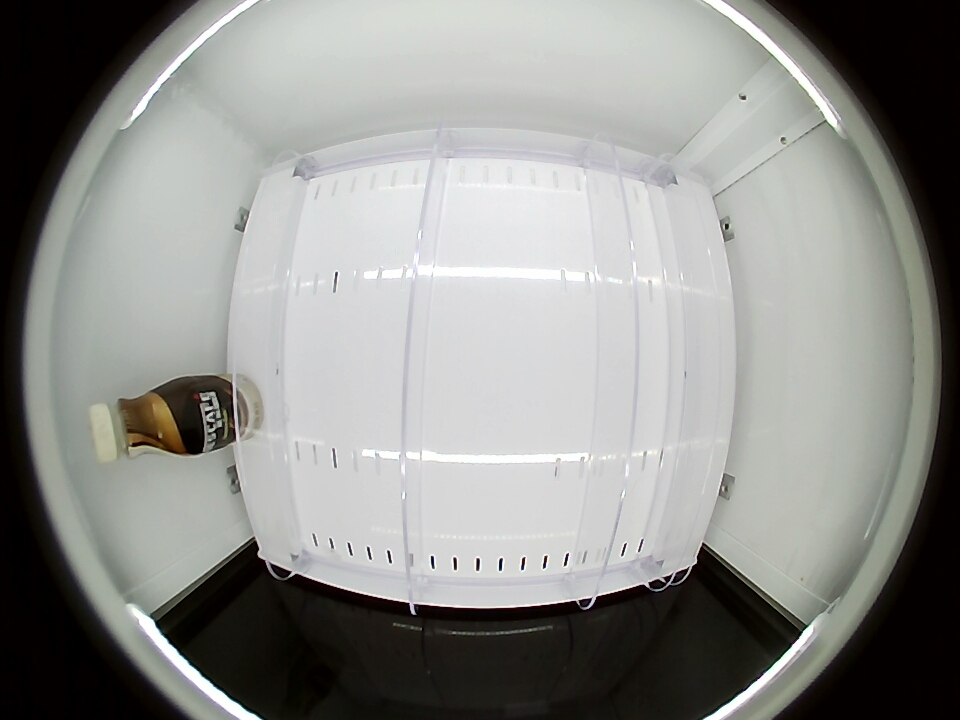kafei: (87, 383, 199, 461)
